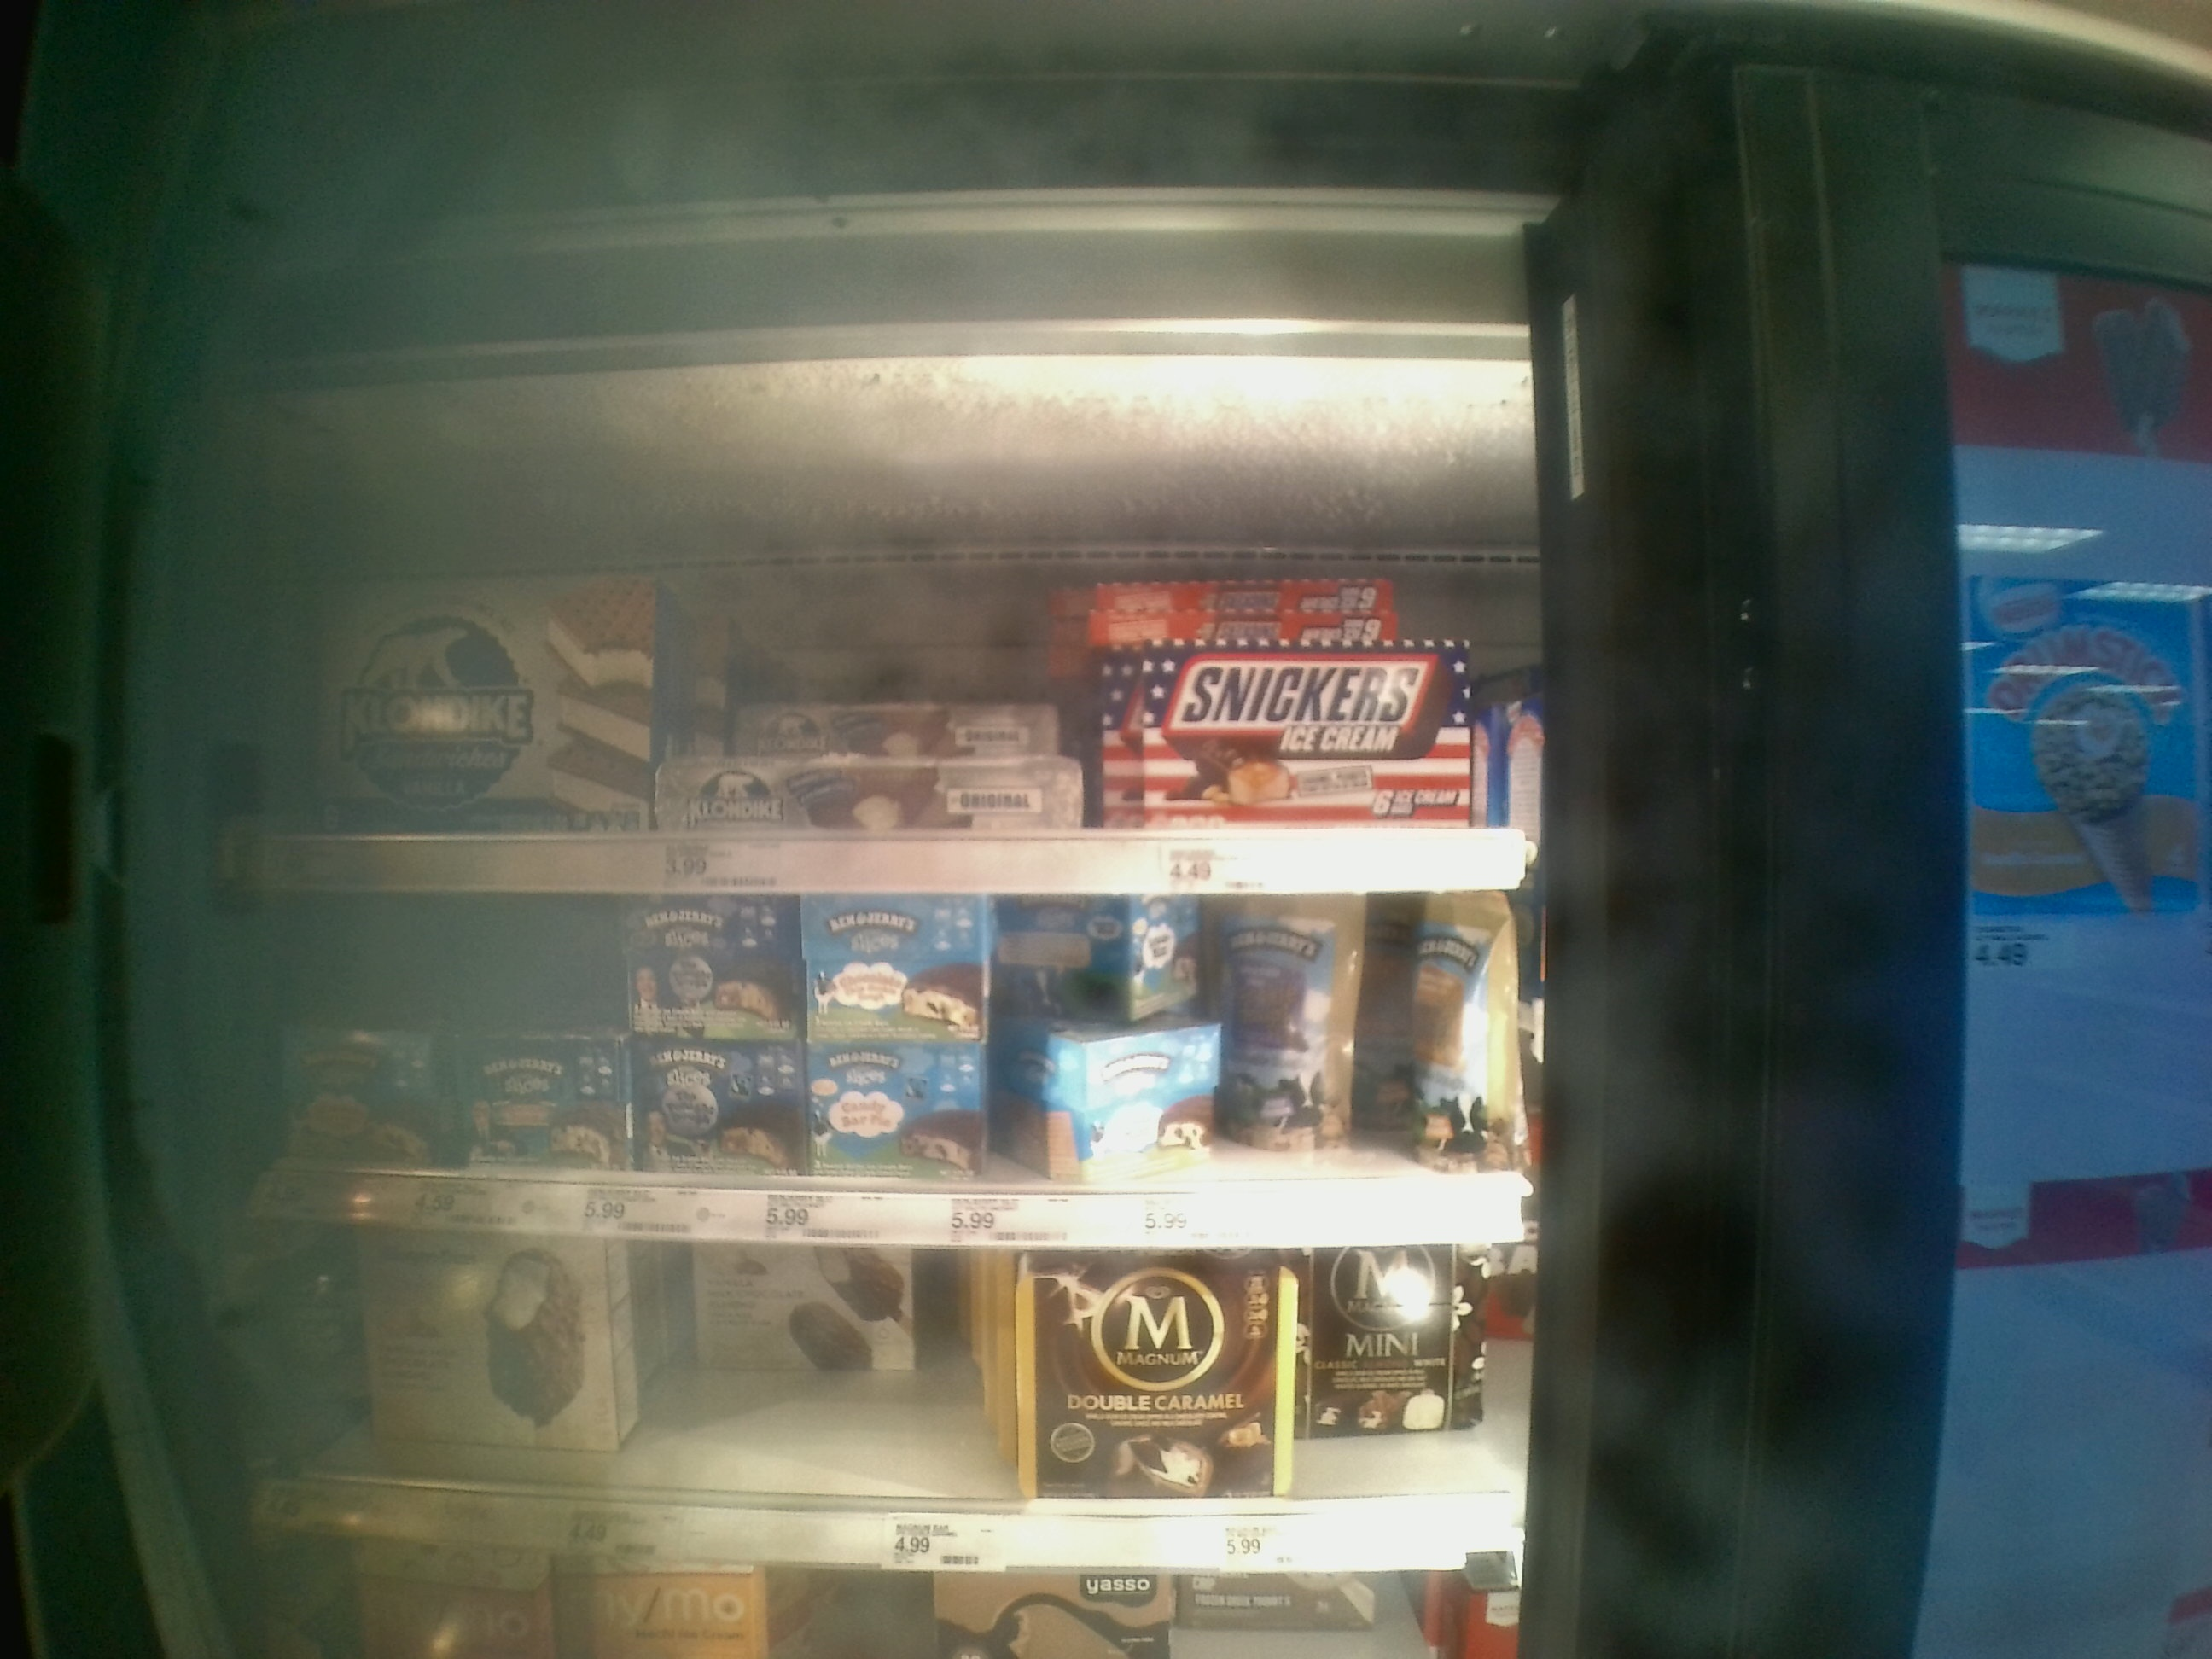ice-cream-shelf: (244, 453, 1538, 889), (240, 894, 1533, 1244), (244, 1234, 1514, 1570)
